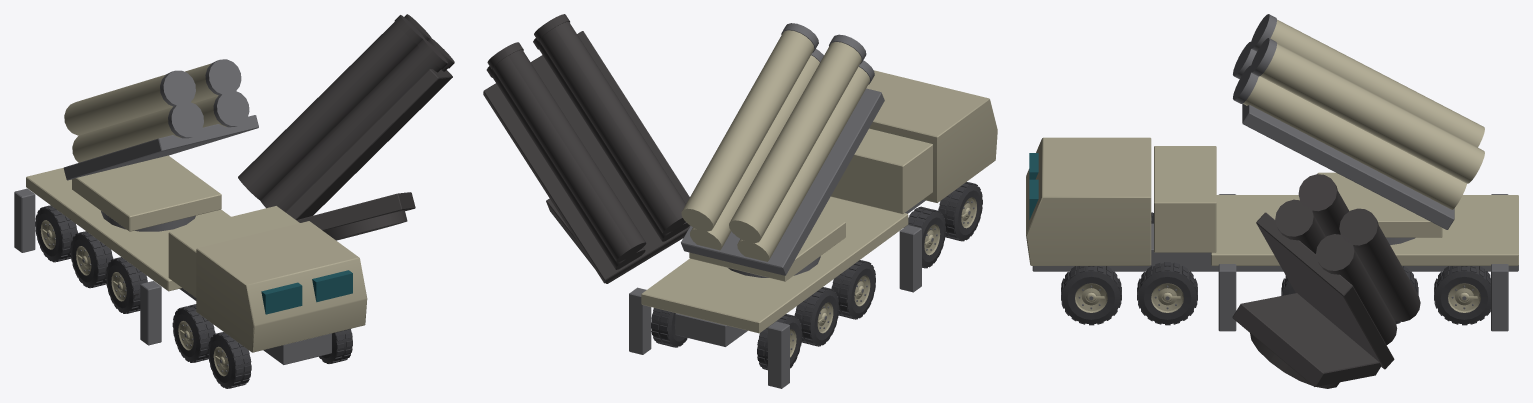
The model's file is abmLauncher__s_500.glb.
The picture shows the model from 3 angles, left to right: view 1: azimuth 30°, elevation 25°; view 2: azimuth 150°, elevation 25°; view 3: azimuth 270°, elevation 25°; orthographic projection. The views are drawn at different scales.
Parts seen in each view (by area): view 1: Hull_Mesh, Wreck, Gun_Mesh, Turret_Mesh, Wheel_L4_Mesh, Wheel_L3_Mesh, Wheel_L1_Mesh, Wheel_L0_Mesh, Wheel_L2_Mesh, Wheel_R4_Mesh; view 2: Hull_Mesh, Wreck, Gun_Mesh, Turret_Mesh, Wheel_L1_Mesh, Wheel_L4_Mesh, Wheel_L2_Mesh, Wheel_L3_Mesh, Wheel_L0_Mesh, Wheel_R0_Mesh; view 3: Hull_Mesh, Gun_Mesh, Wreck, Wheel_R3_Mesh, Wheel_R4_Mesh, Turret_Mesh, Wheel_R0_Mesh.
Boxes of the visible parts, <box> form: Hull_Mesh: <box>14,167,367,364</box>; Wreck: <box>50,14,454,387</box>; Gun_Mesh: <box>63,59,258,180</box>; Turret_Mesh: <box>72,155,221,231</box>; Wheel_L4_Mesh: <box>208,332,251,388</box>; Wheel_L3_Mesh: <box>172,304,215,362</box>; Wheel_L1_Mesh: <box>70,231,113,288</box>; Wheel_L0_Mesh: <box>35,205,77,262</box>; Wheel_L2_Mesh: <box>106,257,147,313</box>; Wheel_R4_Mesh: <box>319,329,352,363</box>; Hull_Mesh: <box>629,70,997,388</box>; Wreck: <box>483,14,977,345</box>; Gun_Mesh: <box>681,23,884,275</box>; Turret_Mesh: <box>689,215,845,281</box>; Wheel_L1_Mesh: <box>794,287,839,346</box>; Wheel_L4_Mesh: <box>938,182,982,241</box>; Wheel_L2_Mesh: <box>831,260,875,319</box>; Wheel_L3_Mesh: <box>904,206,945,268</box>; Wheel_L0_Mesh: <box>757,314,802,370</box>; Wheel_R0_Mesh: <box>651,308,687,347</box>; Hull_Mesh: <box>1026,137,1518,331</box>; Gun_Mesh: <box>1233,14,1484,229</box>; Wreck: <box>1093,174,1420,388</box>; Wheel_R3_Mesh: <box>1137,262,1197,325</box>; Wheel_R4_Mesh: <box>1061,266,1121,325</box>; Turret_Mesh: <box>1317,172,1442,245</box>; Wheel_R0_Mesh: <box>1434,266,1490,325</box>.
Size of what is drawn, in the model's own units: 8.29 by 5.4 by 9.05.
